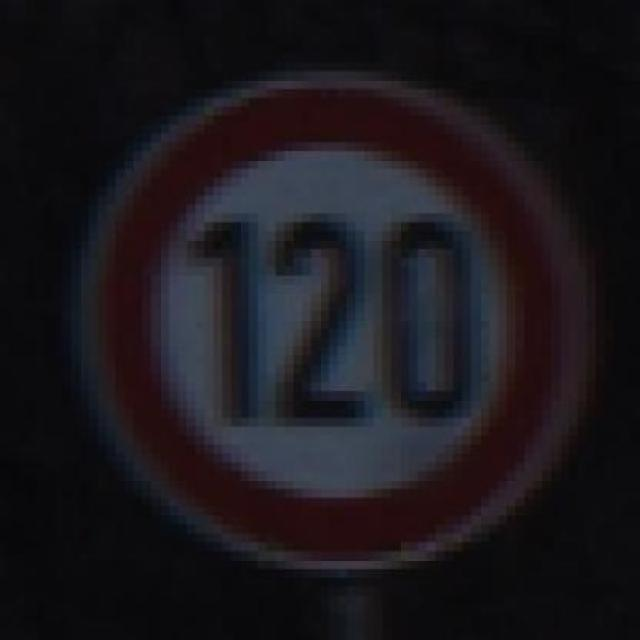forb_speed_over_120: (102, 86, 573, 563)
